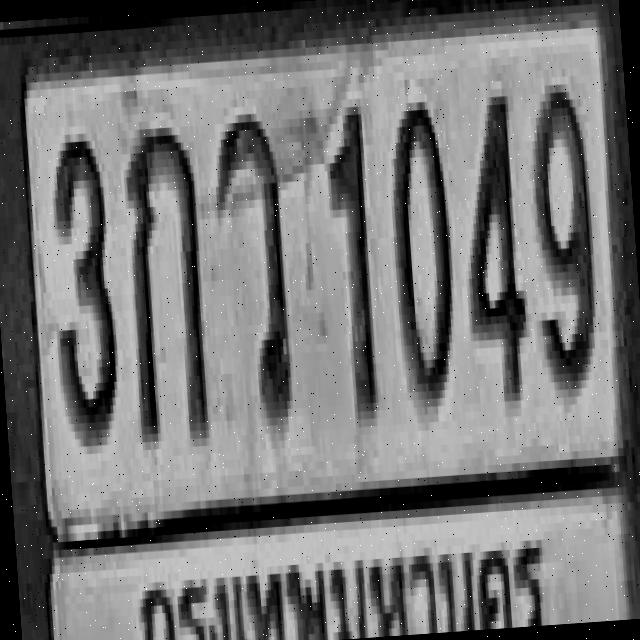0: (385, 92, 460, 408)
1: (322, 102, 382, 416)
10GorGai: (117, 119, 212, 442)
3: (44, 128, 122, 444)
4: (454, 88, 529, 403)
46WorWaen: (208, 108, 294, 424)
9: (526, 83, 602, 390)
